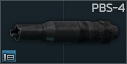PBS-4 5.45x39 sound suppressor: (0, 0, 127, 64)
